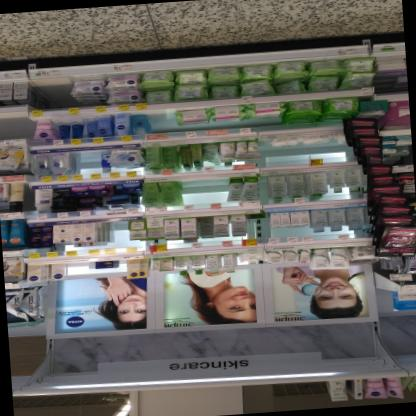empty_space: (265, 139, 345, 167), (179, 177, 230, 208), (31, 79, 73, 111), (0, 114, 35, 142), (143, 110, 178, 138), (108, 220, 131, 250), (64, 259, 92, 283)
